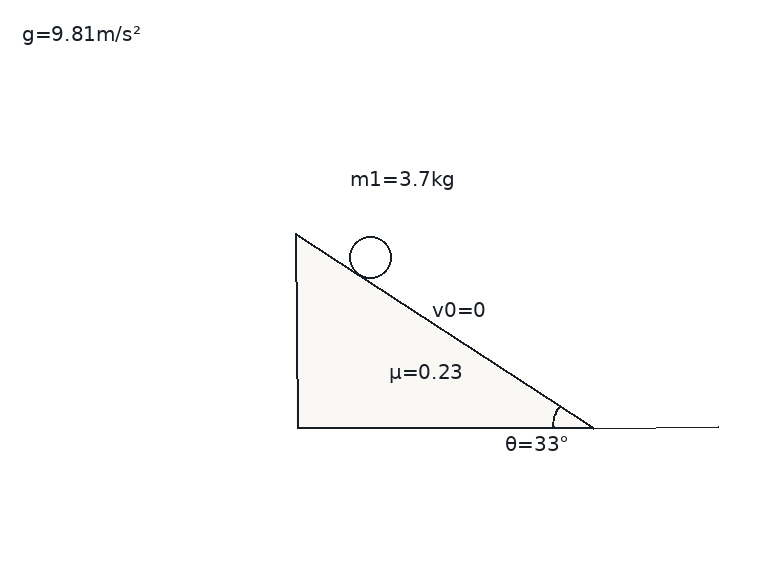ball: (347, 234, 393, 280)
ramp: (294, 232, 595, 429)
